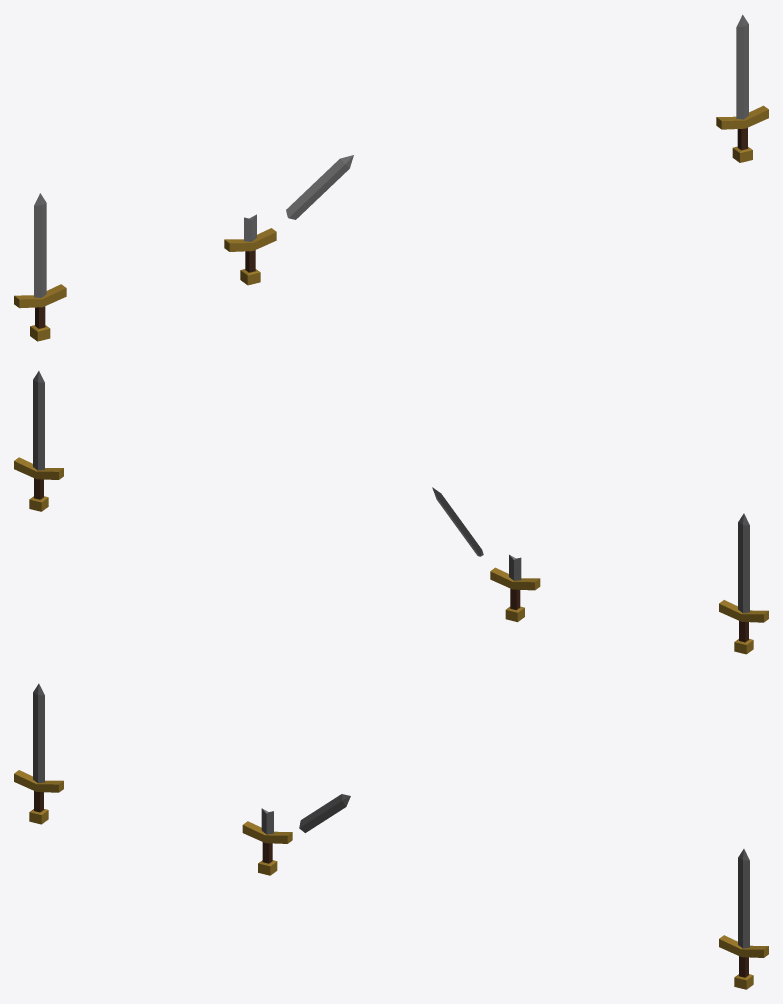
The model's file is miecz.dae.
3 renders of one model, top to bottom at view 1: azimuth 30°, elevation 25°; view 2: azimuth 150°, elevation 25°; view 3: azimuth 330°, elevation 25°, orthographic. The views are drawn at different scales.
Parts seen in each view (by area): view 1: Cube.004, Cube.003, Cube.009, Cube.002, Cube.006; view 2: Cube.004, Cube.003, Cube.009, Cube.006, Cube.002; view 3: Cube.004, Cube.003, Cube.009, Cube.006, Cube.002.
Part boxes in pixels (x1,y1,x2,y2): Cube.004: (716, 14, 768, 162); Cube.003: (34, 193, 46, 297); Cube.009: (286, 155, 353, 219); Cube.002: (14, 284, 66, 308); Cube.006: (224, 228, 276, 251); Cube.004: (14, 371, 63, 511); Cube.003: (738, 513, 749, 612); Cube.009: (432, 487, 483, 556); Cube.006: (490, 567, 540, 590); Cube.002: (719, 600, 768, 622); Cube.004: (719, 849, 768, 989); Cube.003: (33, 683, 44, 782); Cube.009: (299, 794, 350, 832); Cube.006: (242, 821, 292, 843); Cube.002: (14, 770, 63, 792).
Bounding box in the file's own units: 119 × 7.25 × 23.33.
